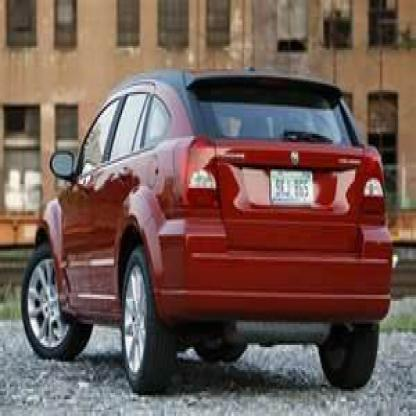Vehicle: (20, 65, 396, 401)
